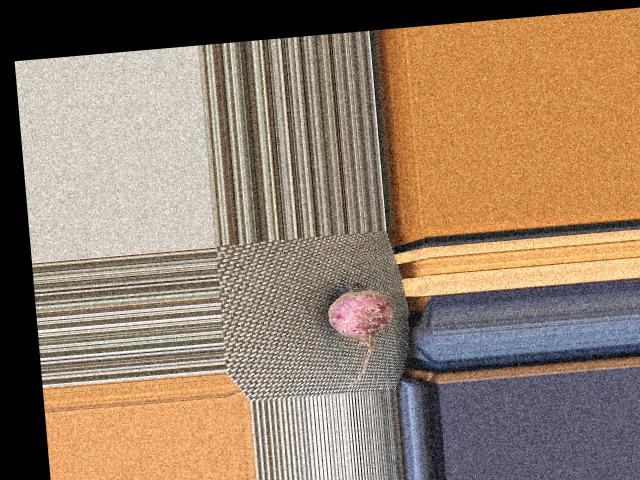beet: (326, 278, 400, 385)
